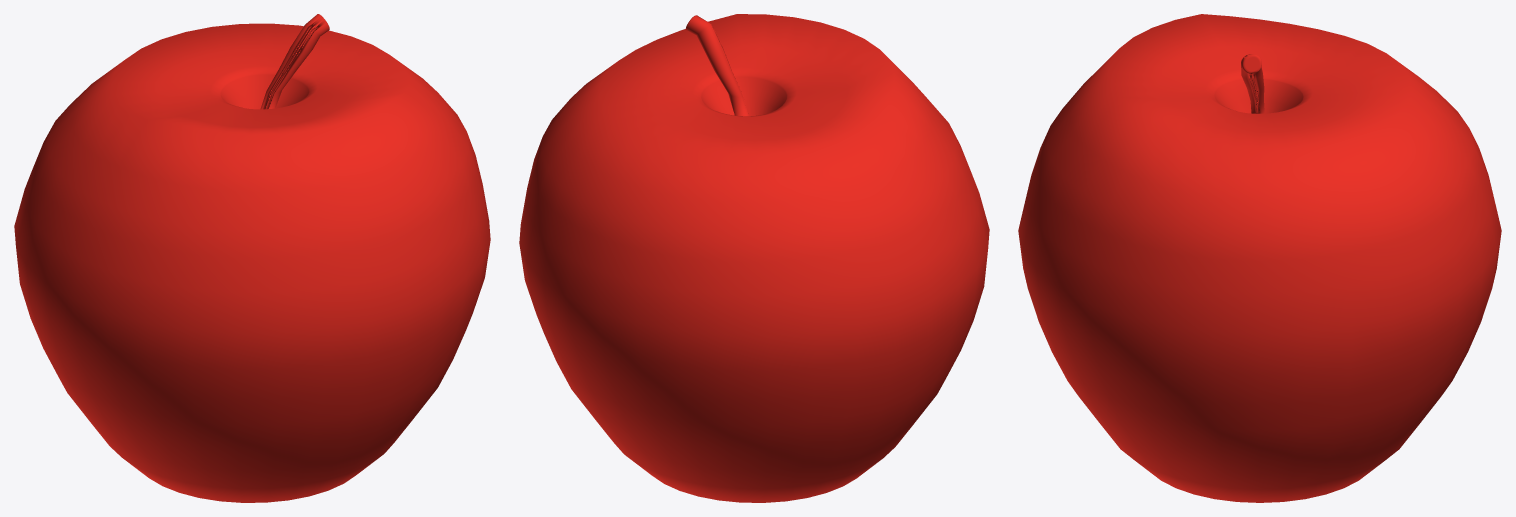
File: asset.glb
The picture shows the model from 3 angles, left to right: view 1: azimuth 30°, elevation 25°; view 2: azimuth 150°, elevation 25°; view 3: azimuth 270°, elevation 25°; orthographic projection. The views are drawn at different scales.
Parts seen in each view (by area): view 1: Sphere; view 2: Sphere; view 3: Sphere.
Part boxes in pixels (left/top/right/bottom): Sphere: left=14, top=14, right=490, bottom=502; Sphere: left=519, top=14, right=989, bottom=502; Sphere: left=1018, top=14, right=1501, bottom=502.
Bounding box in the file's own units: 3.61 × 3.61 × 3.61.
